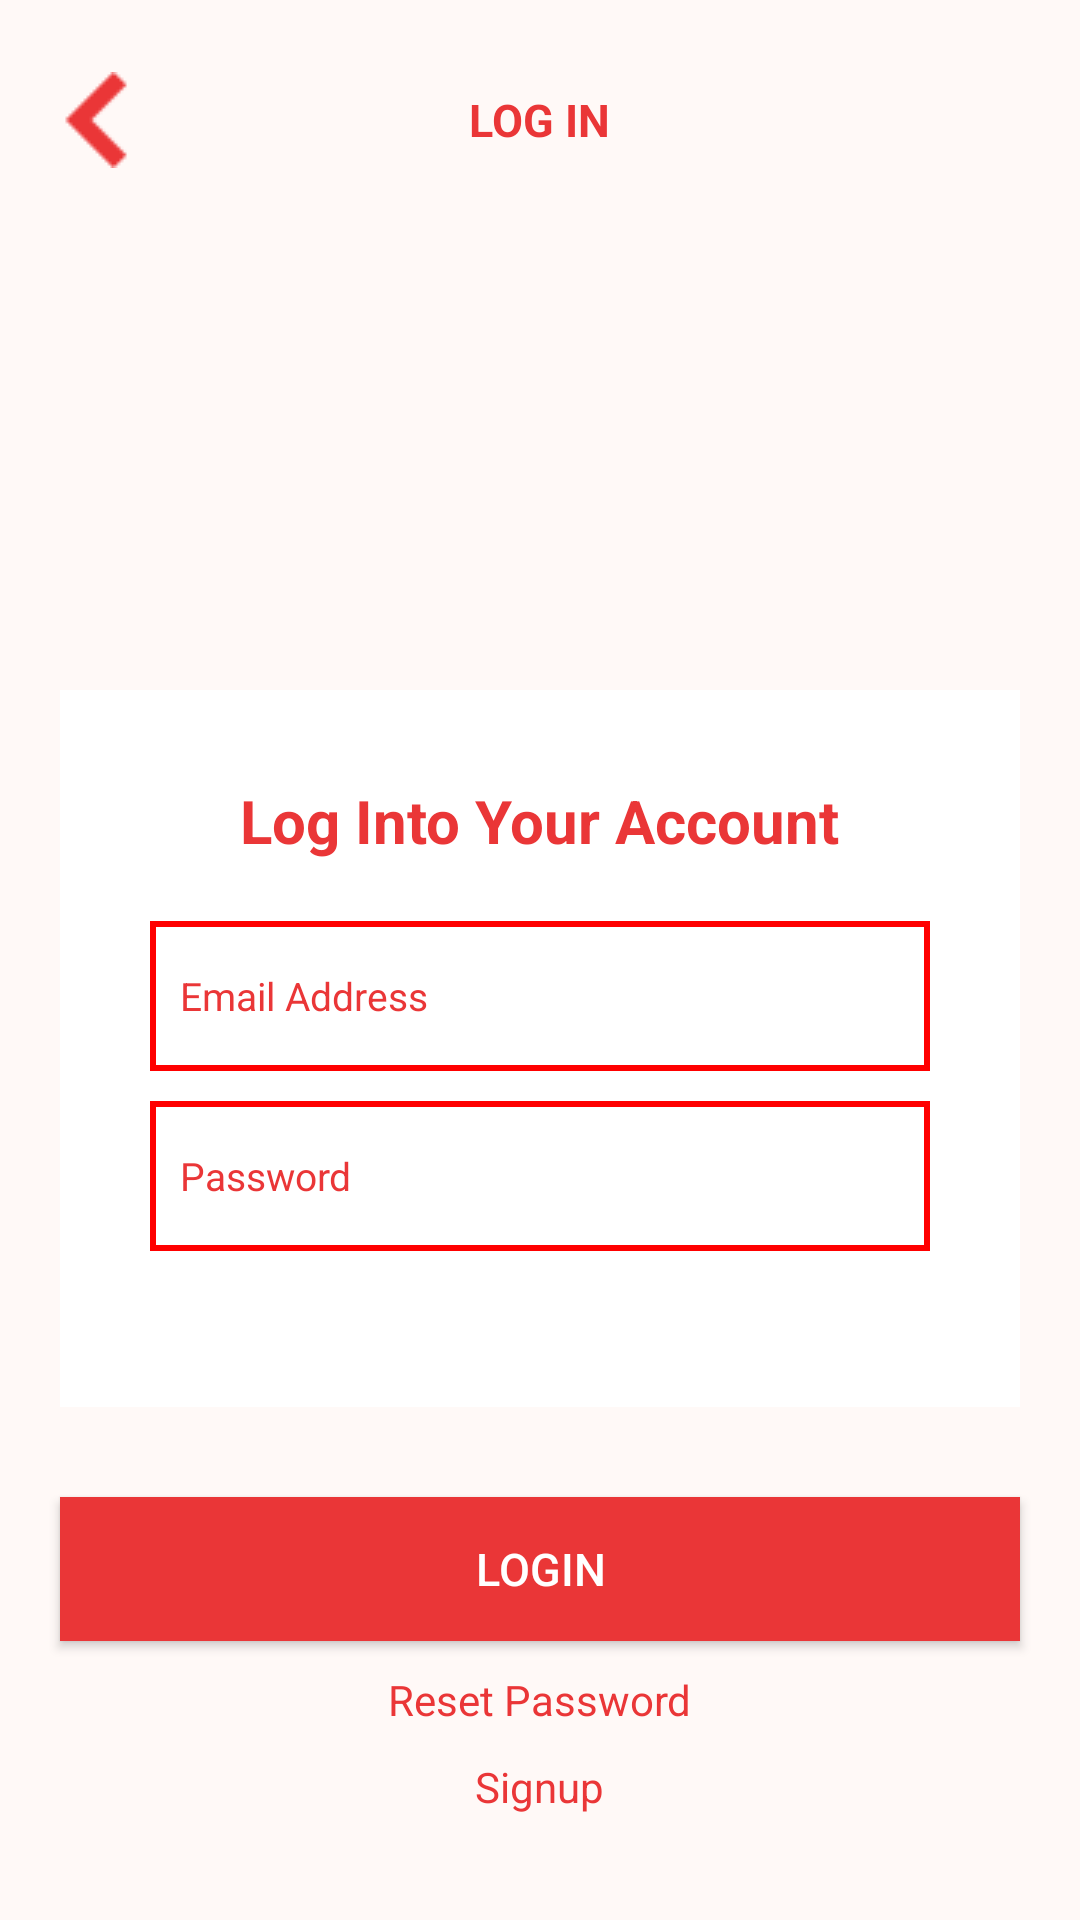

Locate icon controls on the screen. Image size 1080 x 1920, boxes as {"left": x1, "top": y1, "right": x2, "bottom": y2}.
backorange: {"left": 65, "top": 72, "right": 127, "bottom": 168}
